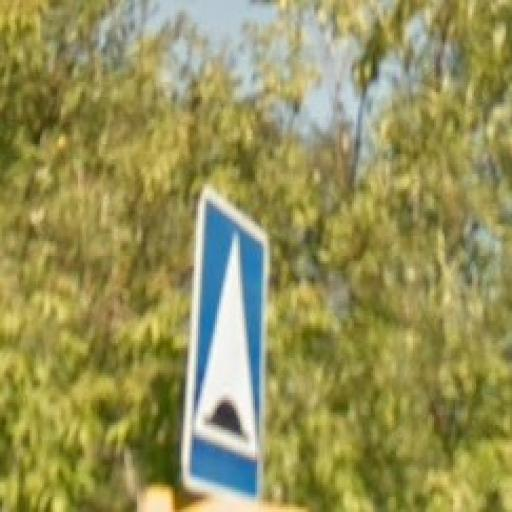traffic_sign: (182, 188, 271, 506)
